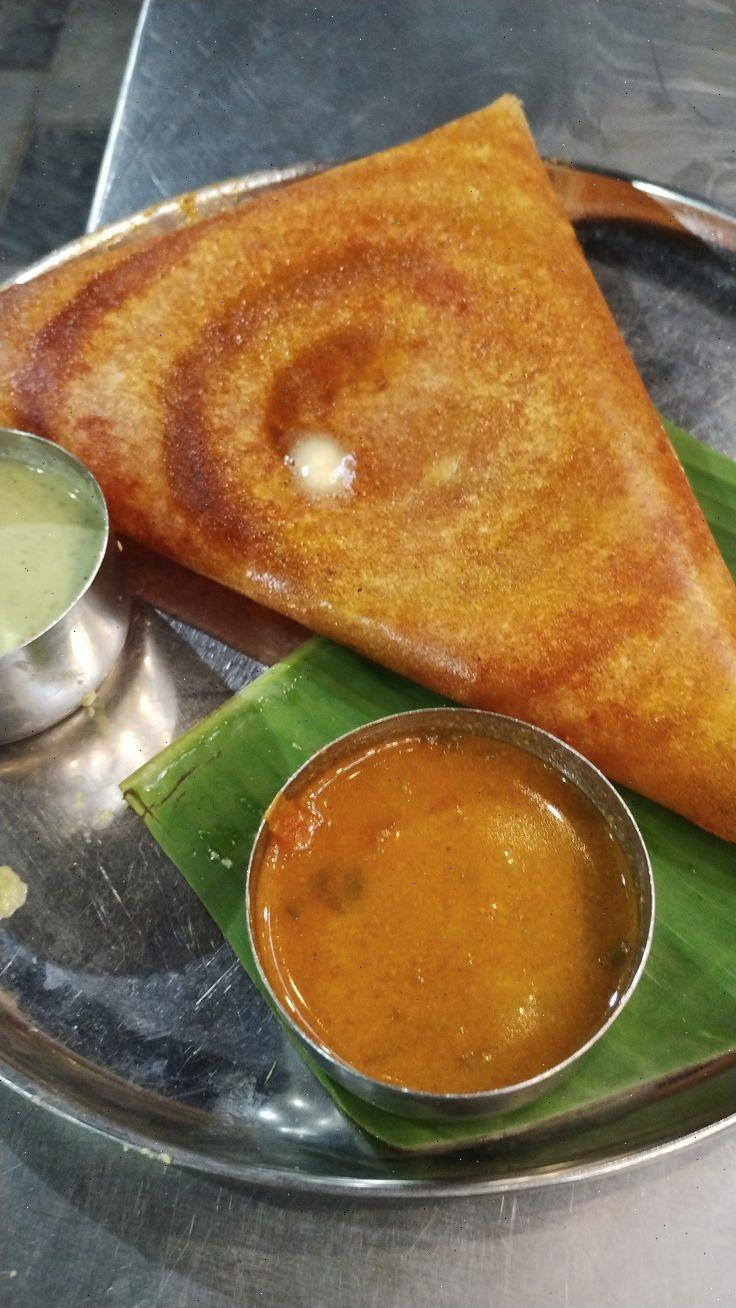dosa: (44, 158, 736, 753)
